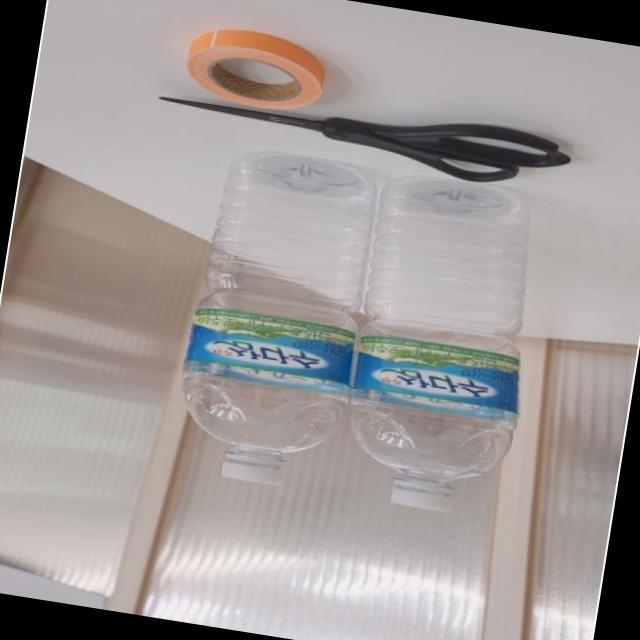plastic_bottle: (168, 143, 388, 498), (344, 169, 546, 521)
